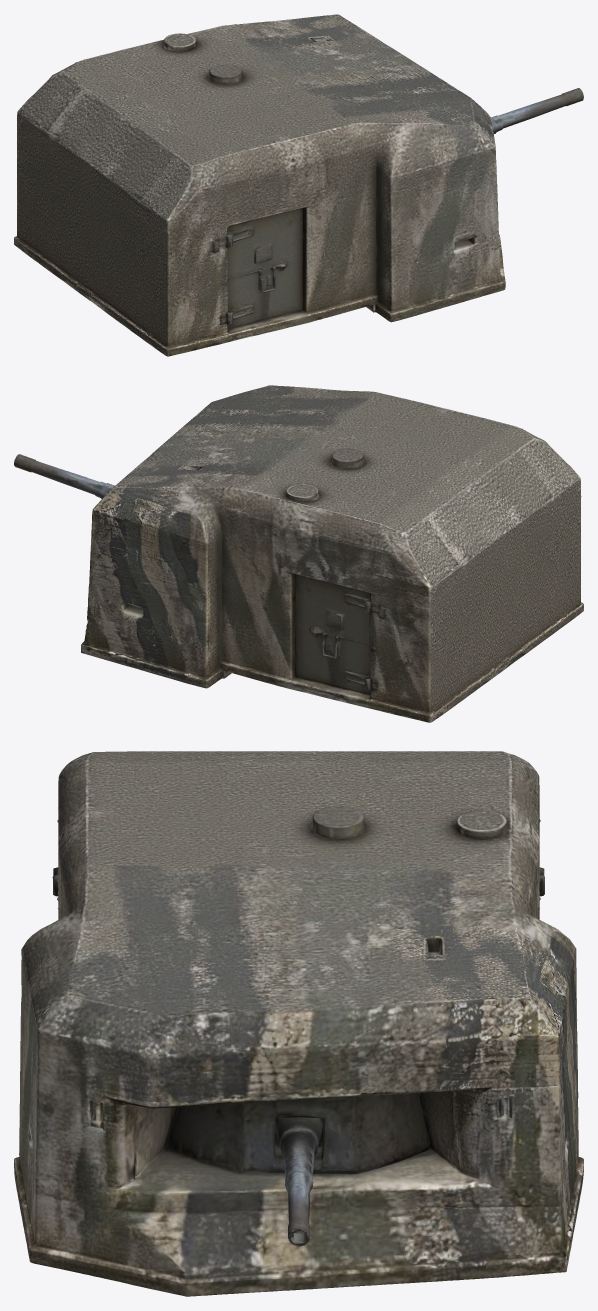
The model's file is prop_casemate.glb.
The picture shows the model from 3 angles, top to bottom: view 1: azimuth 30°, elevation 25°; view 2: azimuth 150°, elevation 25°; view 3: azimuth 270°, elevation 25°; orthographic projection. The views are drawn at different scales.
Visible parts, largest first — view 1: tripo_node_c4f6e1f3-4be7-4cd6-80de-f478b3d3bc45; view 2: tripo_node_c4f6e1f3-4be7-4cd6-80de-f478b3d3bc45; view 3: tripo_node_c4f6e1f3-4be7-4cd6-80de-f478b3d3bc45.
Boxes of the visible parts, left/top/right/bottom form: tripo_node_c4f6e1f3-4be7-4cd6-80de-f478b3d3bc45: left=14, top=14, right=583, bottom=356; tripo_node_c4f6e1f3-4be7-4cd6-80de-f478b3d3bc45: left=14, top=385, right=583, bottom=722; tripo_node_c4f6e1f3-4be7-4cd6-80de-f478b3d3bc45: left=14, top=751, right=583, bottom=1296.
Size of the model in its own units: 0.9789 by 0.3672 by 0.621.
1 material, 1 textured.
